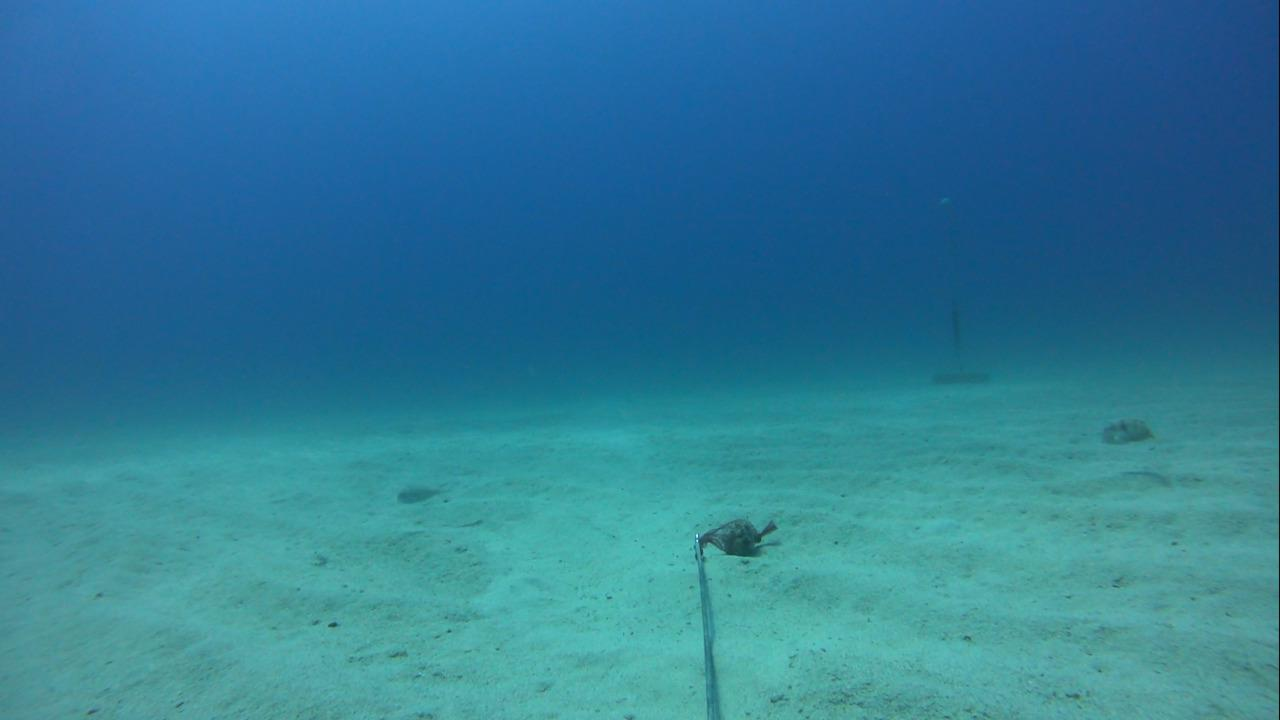raor: (1090, 411, 1164, 451), (389, 475, 456, 514)
